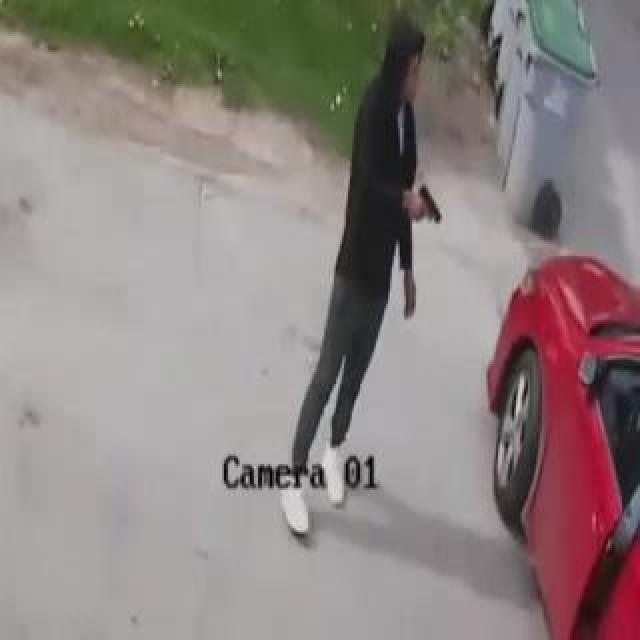Guns: (414, 182, 447, 229)
